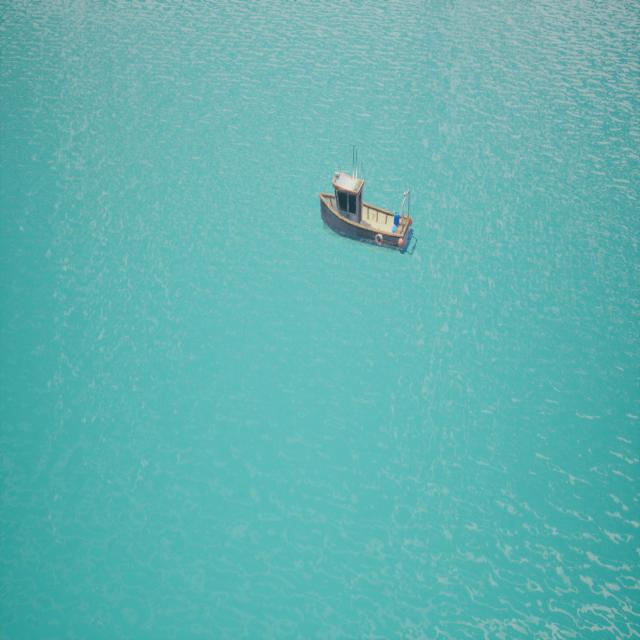ship: (319, 169, 417, 253)
